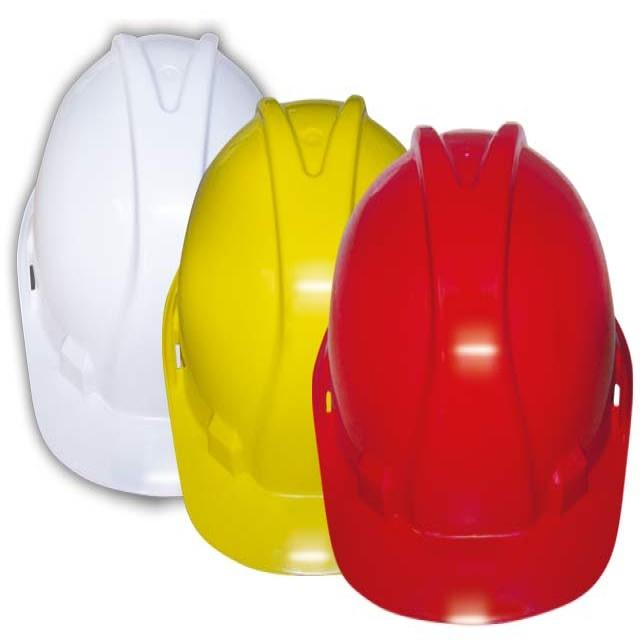helmet: (309, 160, 640, 640), (17, 33, 268, 640), (155, 125, 412, 640)
